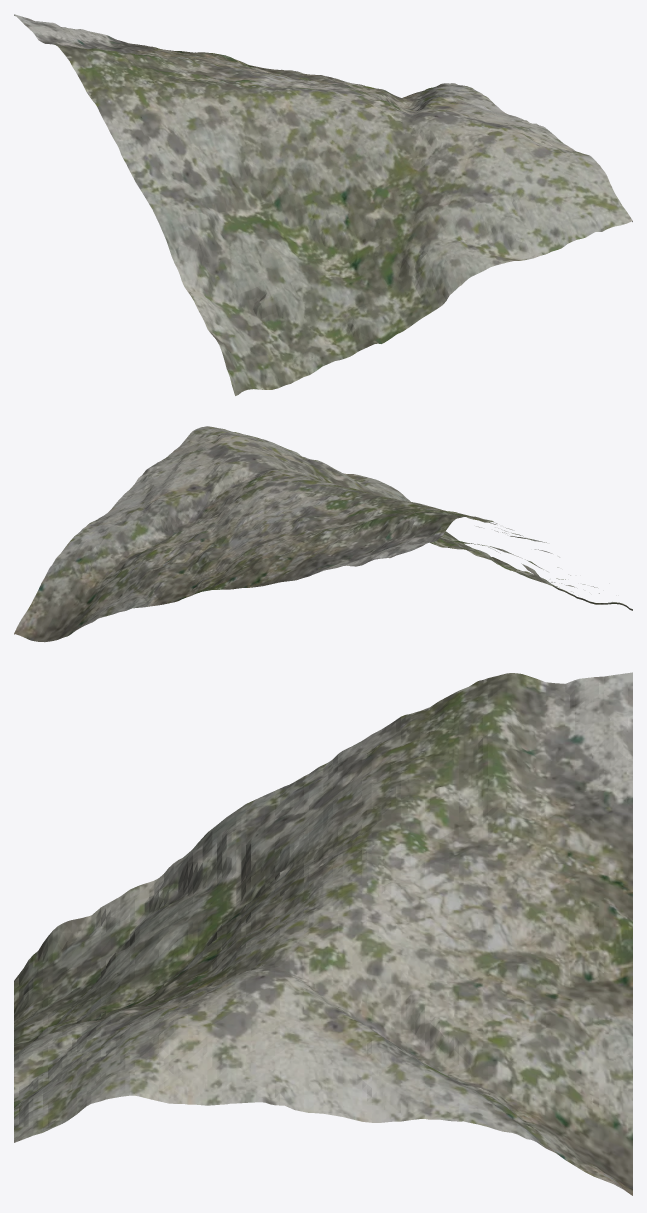
3 renders of one model, top to bottom at view 1: azimuth 30°, elevation 25°; view 2: azimuth 150°, elevation 25°; view 3: azimuth 270°, elevation 25°, orthographic. The views are drawn at different scales.
Bounding box in the file's own units: 250 × 135 × 241.
Materials: 1 (1 with a texture image).
